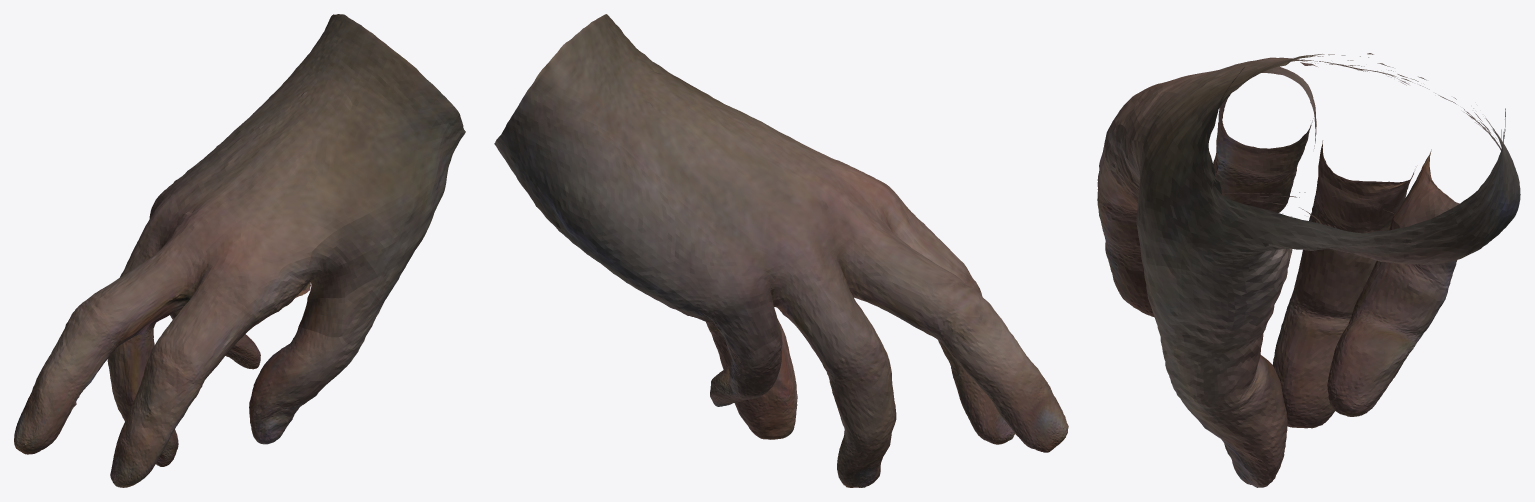
3 renders of one model, left to right at view 1: azimuth 30°, elevation 25°; view 2: azimuth 150°, elevation 25°; view 3: azimuth 270°, elevation 25°, orthographic. The views are drawn at different scales.
Parts seen in each view (by area): view 1: 3; view 2: 3; view 3: 3.
Boxes of the visible parts, x1,y1,x2,y2 form: 3: (14,14,465,487); 3: (494,14,1068,487); 3: (1097,53,1520,487).
Bounding box in the file's own units: 0.188 × 0.1457 × 0.0954.
